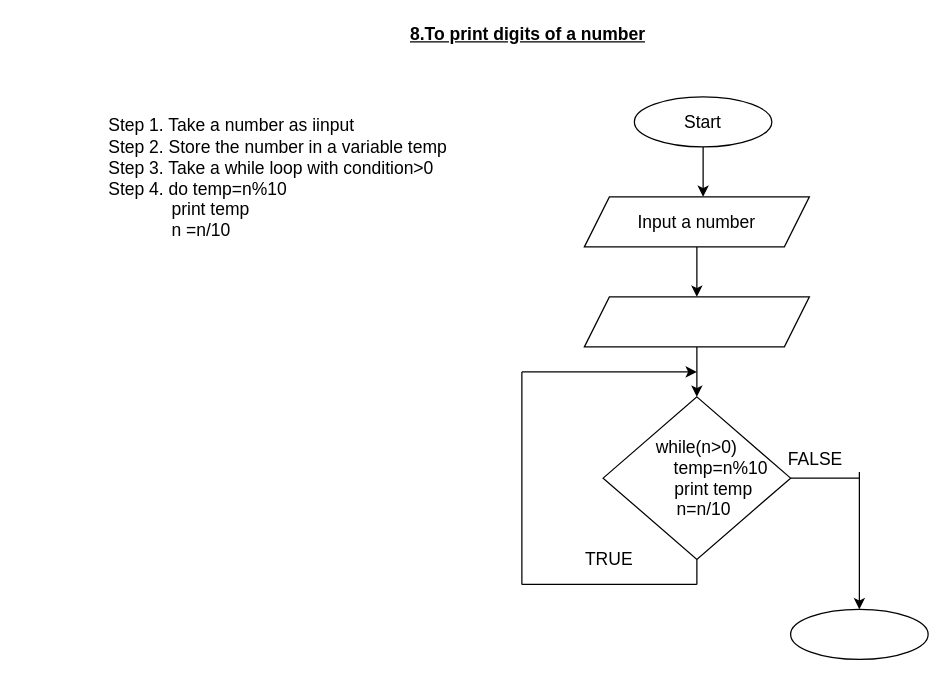
Some shapes in this 950 by 681 pixel diagram are drawn without their labels. The box of each missing label's shape, as (x1, y1, x2, y2) in pixels:
Stop: (789, 608, 928, 659)
Store the number in a variable temp: (583, 296, 809, 347)
